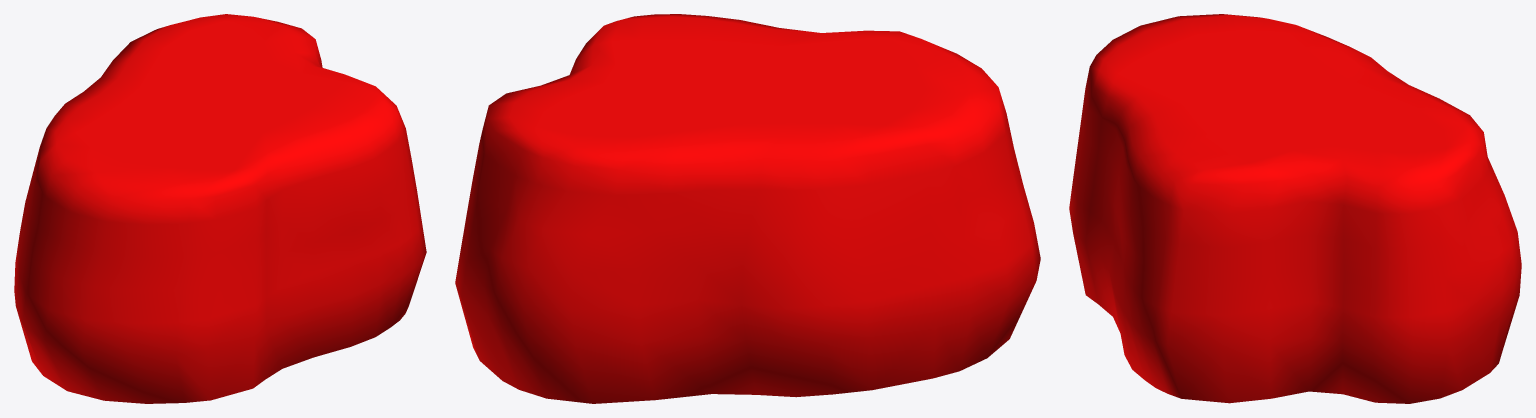
Rendered from geology-landforms-dirtsod_v2.fbx.
3 views of the same model, side by side, from view 1: azimuth 30°, elevation 25°; view 2: azimuth 150°, elevation 25°; view 3: azimuth 270°, elevation 25° (orthographic). The views are drawn at different scales.
Visible parts, largest first — view 1: DirtSod_v2; view 2: DirtSod_v2; view 3: DirtSod_v2.
Part boxes in pixels (x1,y1,x2,y2): DirtSod_v2: [14, 14, 426, 403]; DirtSod_v2: [455, 14, 1040, 403]; DirtSod_v2: [1069, 14, 1521, 403].
Size of the model in its own units: 25.4 by 12.94 by 24.15.
